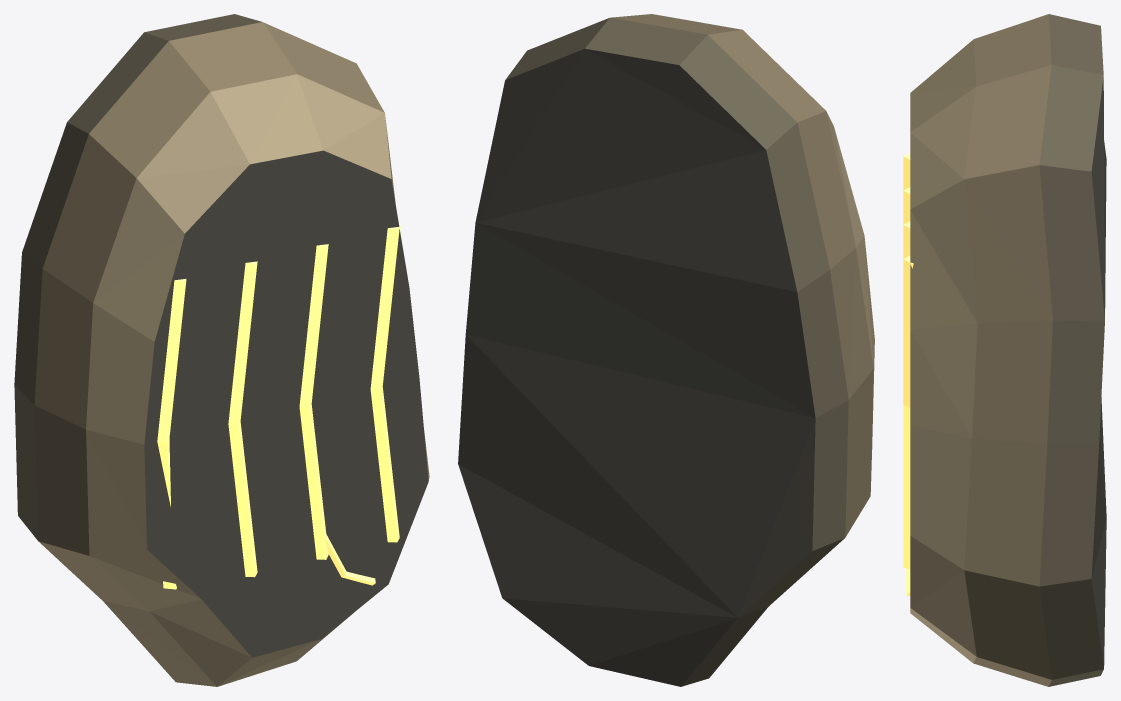
The model's file is FERNSTONE_CHIME.lo.glb.
The picture shows the model from 3 angles, left to right: view 1: azimuth 30°, elevation 25°; view 2: azimuth 150°, elevation 25°; view 3: azimuth 270°, elevation 25°; orthographic projection. The views are drawn at different scales.
Visible parts, largest first — view 1: Body_Mesh; view 2: Body_Mesh; view 3: Body_Mesh.
Part boxes in pixels (x1=…): Body_Mesh: x1=14, y1=14, x2=429, y2=686; Body_Mesh: x1=458, y1=14, x2=874, y2=686; Body_Mesh: x1=903, y1=14, x2=1106, y2=686.
Size of the model in its own units: 0.2173 by 0.3608 by 0.1054.
1 material, 1 textured.
